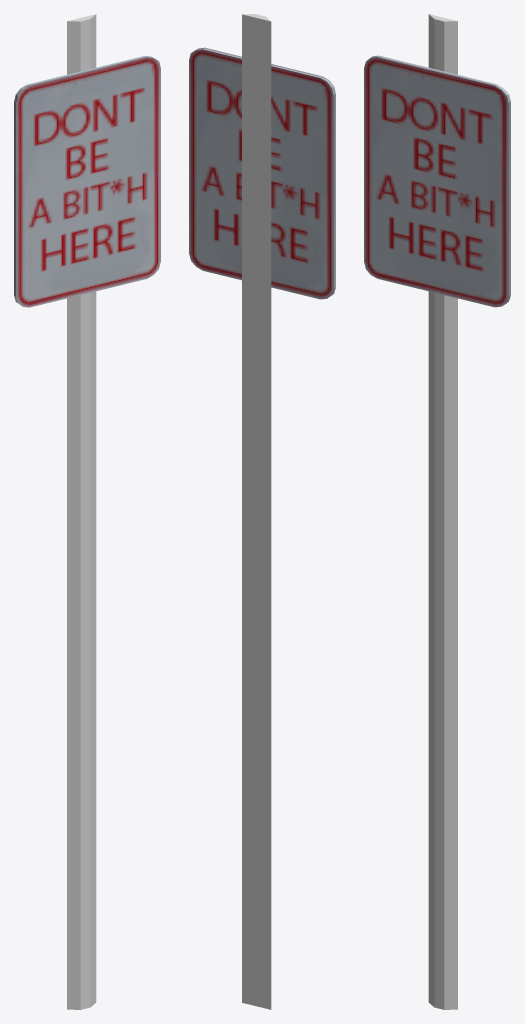
Rendered from sign_dont_be_a_bitch.fbx.
3 views of the same model, side by side, from view 1: azimuth 30°, elevation 25°; view 2: azimuth 150°, elevation 25°; view 3: azimuth 330°, elevation 25° (orthographic).
Parts seen in each view (by area): view 1: sign_no_parking, signpost_silver; view 2: signpost_silver, sign_no_parking; view 3: sign_no_parking, signpost_silver.
Boxes of the visible parts, x1,y1,x2,y2 form: sign_no_parking: (14, 56, 160, 307); signpost_silver: (67, 14, 96, 1009); signpost_silver: (242, 14, 271, 1009); sign_no_parking: (189, 47, 335, 299); sign_no_parking: (364, 55, 510, 307); signpost_silver: (428, 14, 457, 1009).
Size of the model in its own units: 27.99 by 183 by 2.33.
2 materials, 1 textured.
